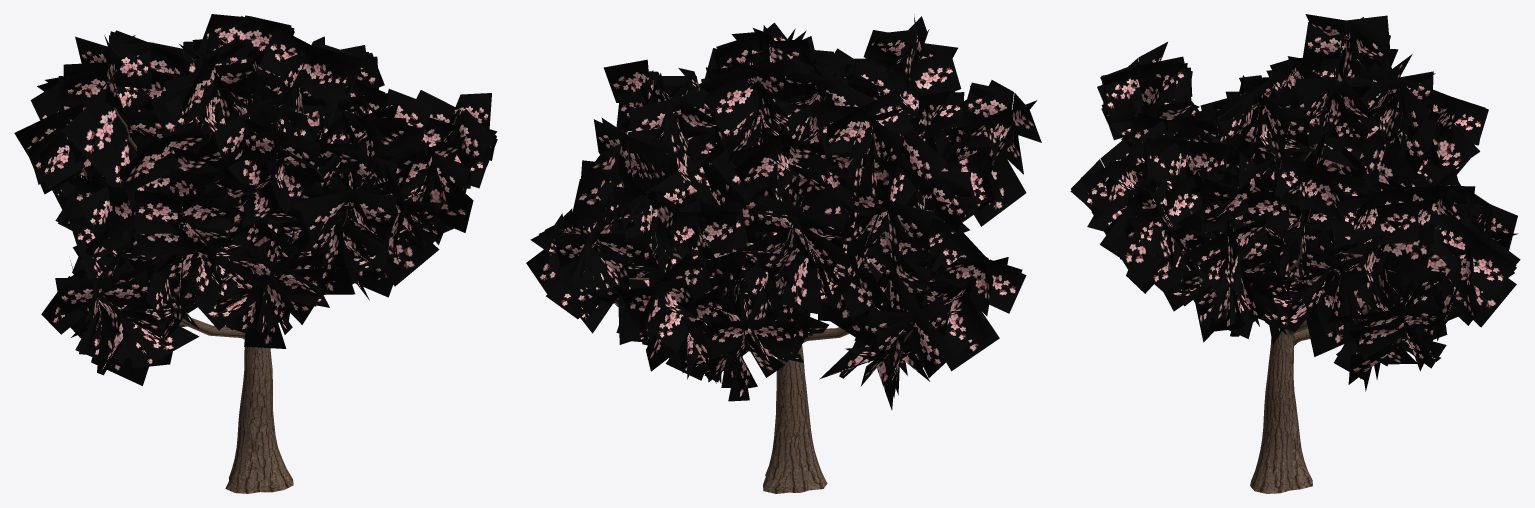
The model's file is map-sakura_tree_01_-_low_poly_model.glb.
The picture shows the model from 3 angles, left to right: view 1: azimuth 30°, elevation 25°; view 2: azimuth 150°, elevation 25°; view 3: azimuth 270°, elevation 25°; orthographic projection. The views are drawn at different scales.
Visible parts, largest first — view 1: Sakura; view 2: Sakura; view 3: Sakura.
Part boxes in pixels (x1,y1,x2,y2): Sakura: (14, 14, 497, 493); Sakura: (526, 14, 1041, 493); Sakura: (1070, 14, 1520, 493).
Size of the model in its own units: 0.4036 by 0.4172 by 0.4016.
2 materials, 2 textured.
